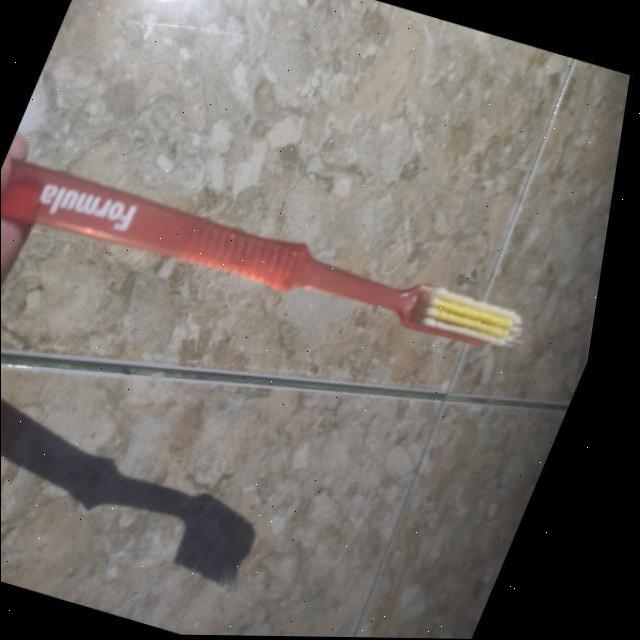toothbrush: (0, 151, 566, 377)
